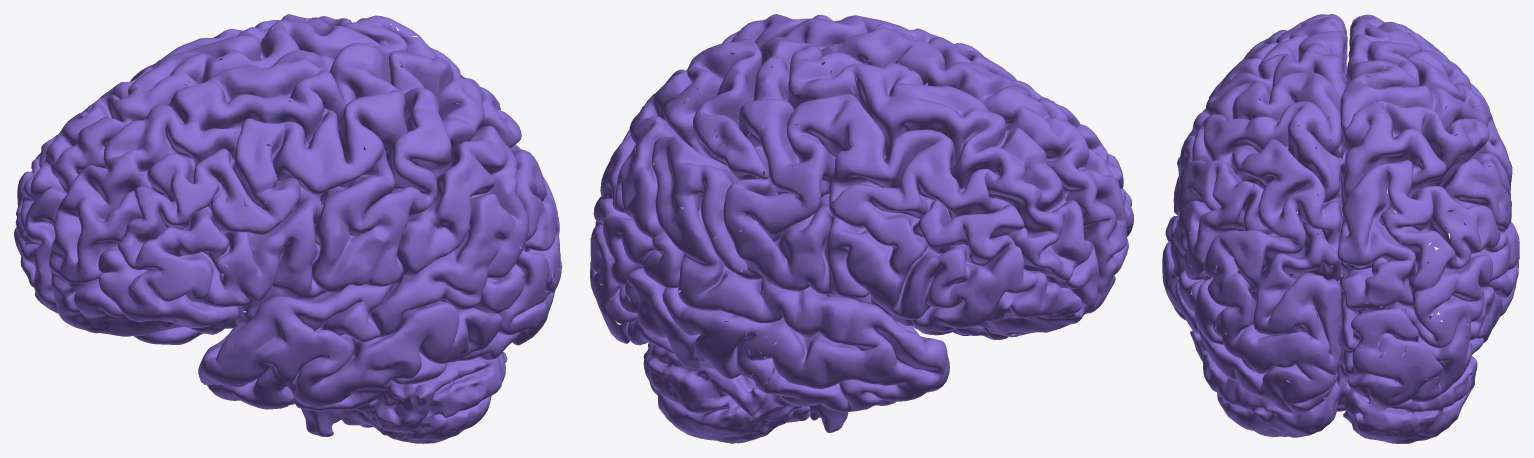
The model's file is brain_high.glb.
The picture shows the model from 3 angles, left to right: view 1: azimuth 30°, elevation 25°; view 2: azimuth 150°, elevation 25°; view 3: azimuth 270°, elevation 25°; orthographic projection. The views are drawn at different scales.
Parts seen in each view (by area): view 1: Cerebral surface, cerebellum and stem; view 2: Cerebral surface, cerebellum and stem; view 3: Cerebral surface, cerebellum and stem.
Part boxes in pixels (left/top/right/bottom): Cerebral surface, cerebellum and stem: left=14, top=14, right=561, bottom=443; Cerebral surface, cerebellum and stem: left=590, top=14, right=1133, bottom=443; Cerebral surface, cerebellum and stem: left=1162, top=14, right=1519, bottom=443.
Size of the model in its own units: 260 by 202 by 191.
